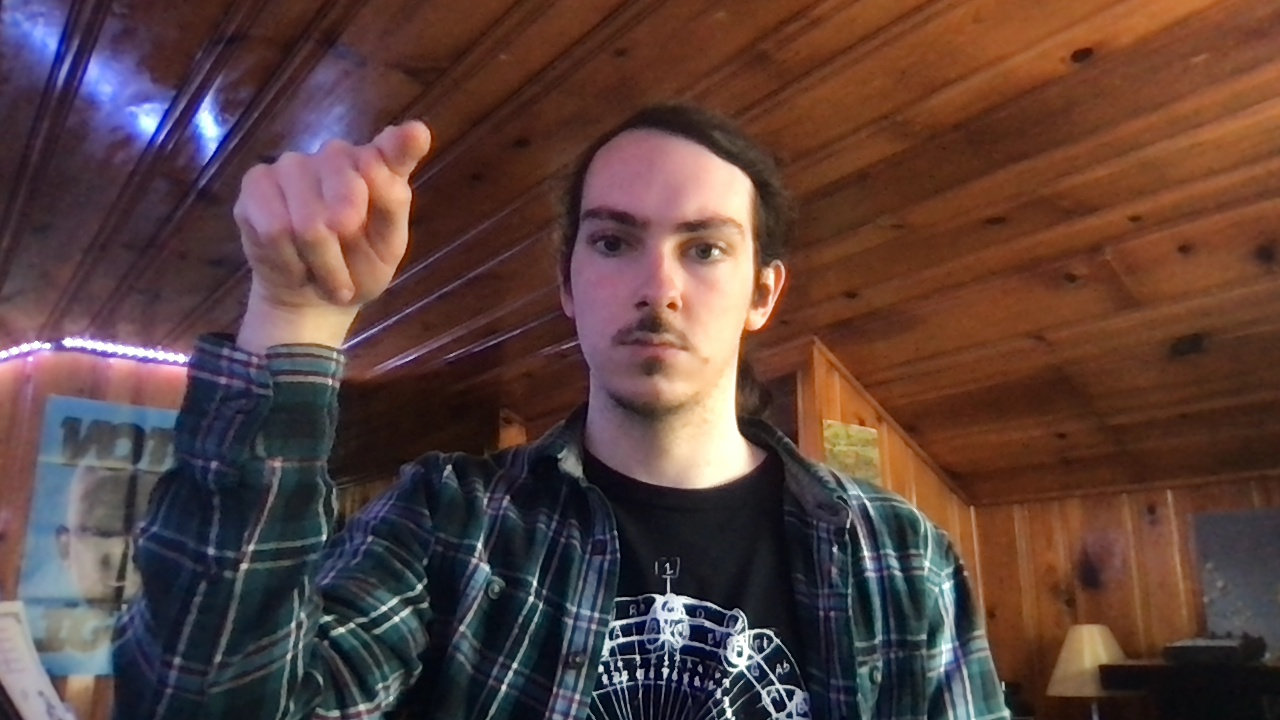p: (231, 116, 433, 315)
